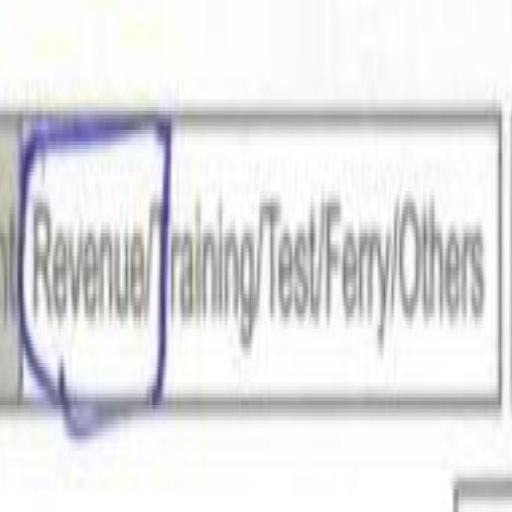check: (23, 37, 151, 493)
